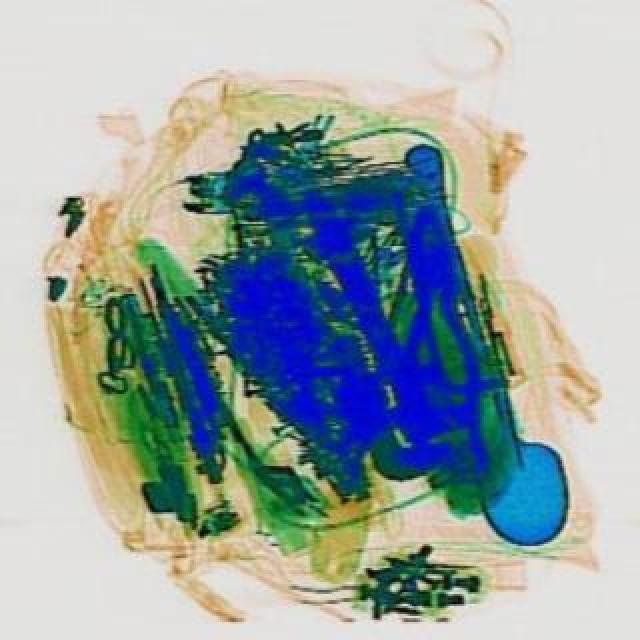wrench: (390, 200, 494, 468)
